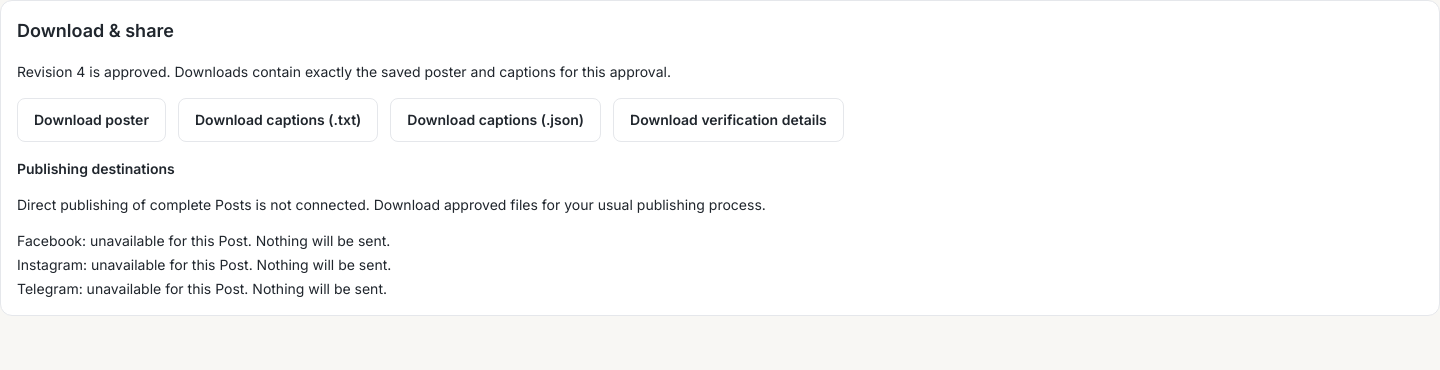
approved Post actions › offers recovery after a failed download and never saves failed bytes
Click the button "Download captions (.txt)".
click(278, 120)  # box [178,98,378,142]
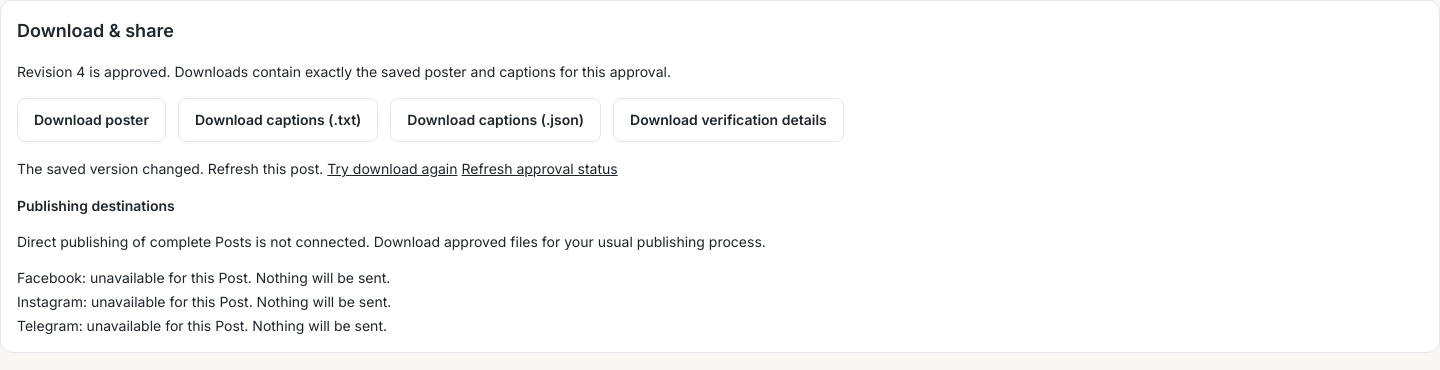
Result: the message shows "The saved version changed" at [17,160,323,177]
Result: the button "Try download again" is enabled at [327,158,458,179]
Result: the button "Refresh approval status" is enabled at [462,158,618,179]
